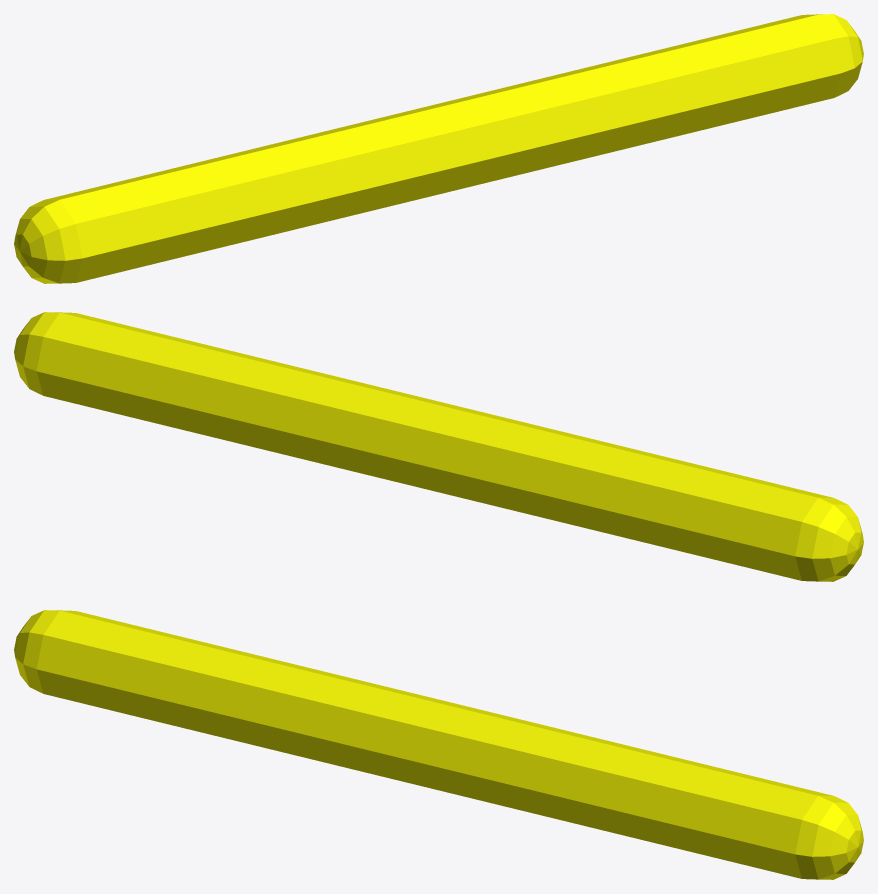
The model's file is pipe_edge_short_r.glb.
3 views of the same model, one above another, from view 1: azimuth 30°, elevation 25°; view 2: azimuth 150°, elevation 25°; view 3: azimuth 330°, elevation 25° (orthographic).
Visible parts, largest first — view 1: pipe_4; view 2: pipe_4; view 3: pipe_4.
Part boxes in pixels (left/top/right/bottom): pipe_4: left=14, top=14, right=863, bottom=283; pipe_4: left=14, top=312, right=863, bottom=581; pipe_4: left=14, top=610, right=863, bottom=879.
Bounding box in the file's own units: 1.05 × 0.1 × 0.1.
